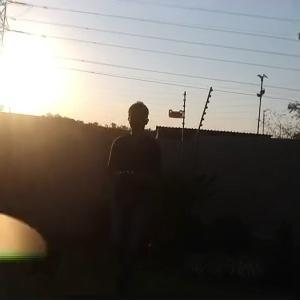follow: (101, 91, 167, 298)
